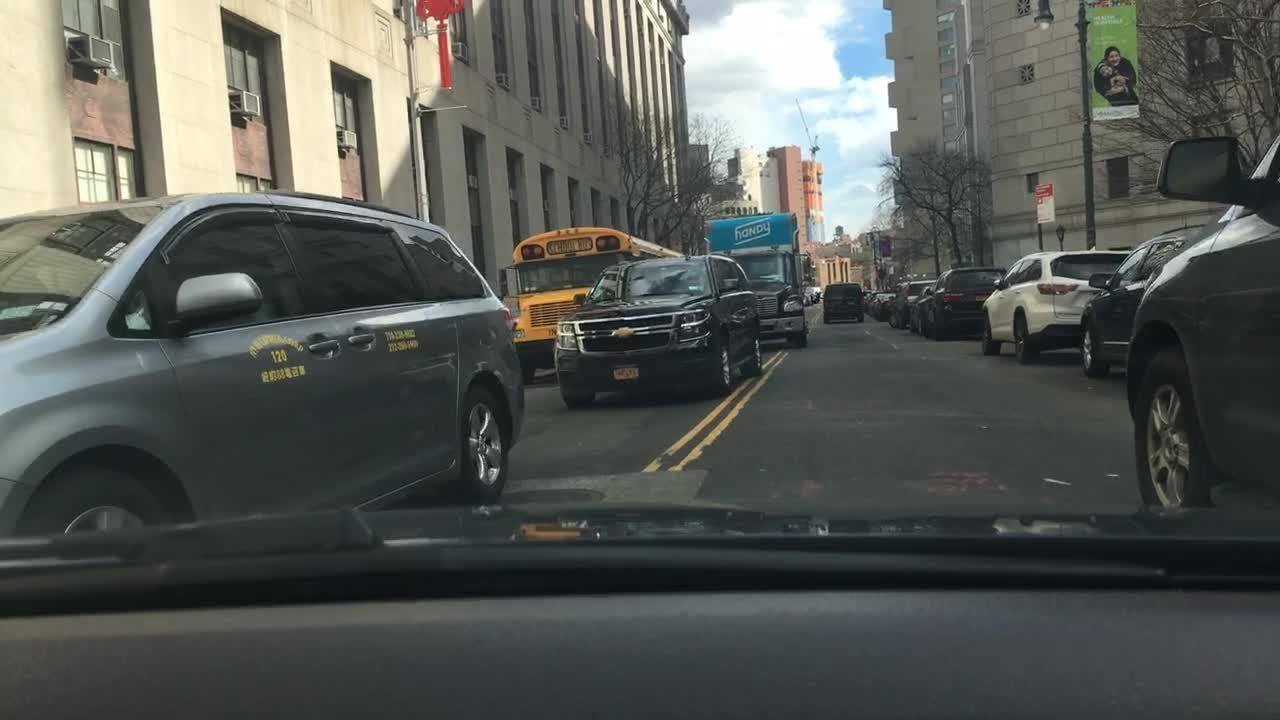chevrolet: (604, 322, 642, 343)
